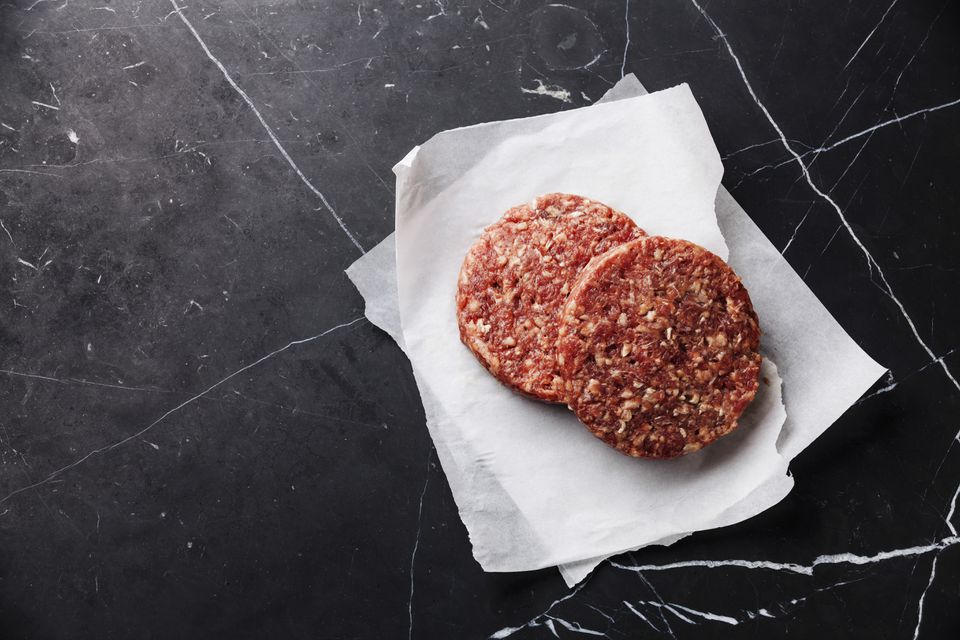ground_beef: (465, 194, 777, 466)
